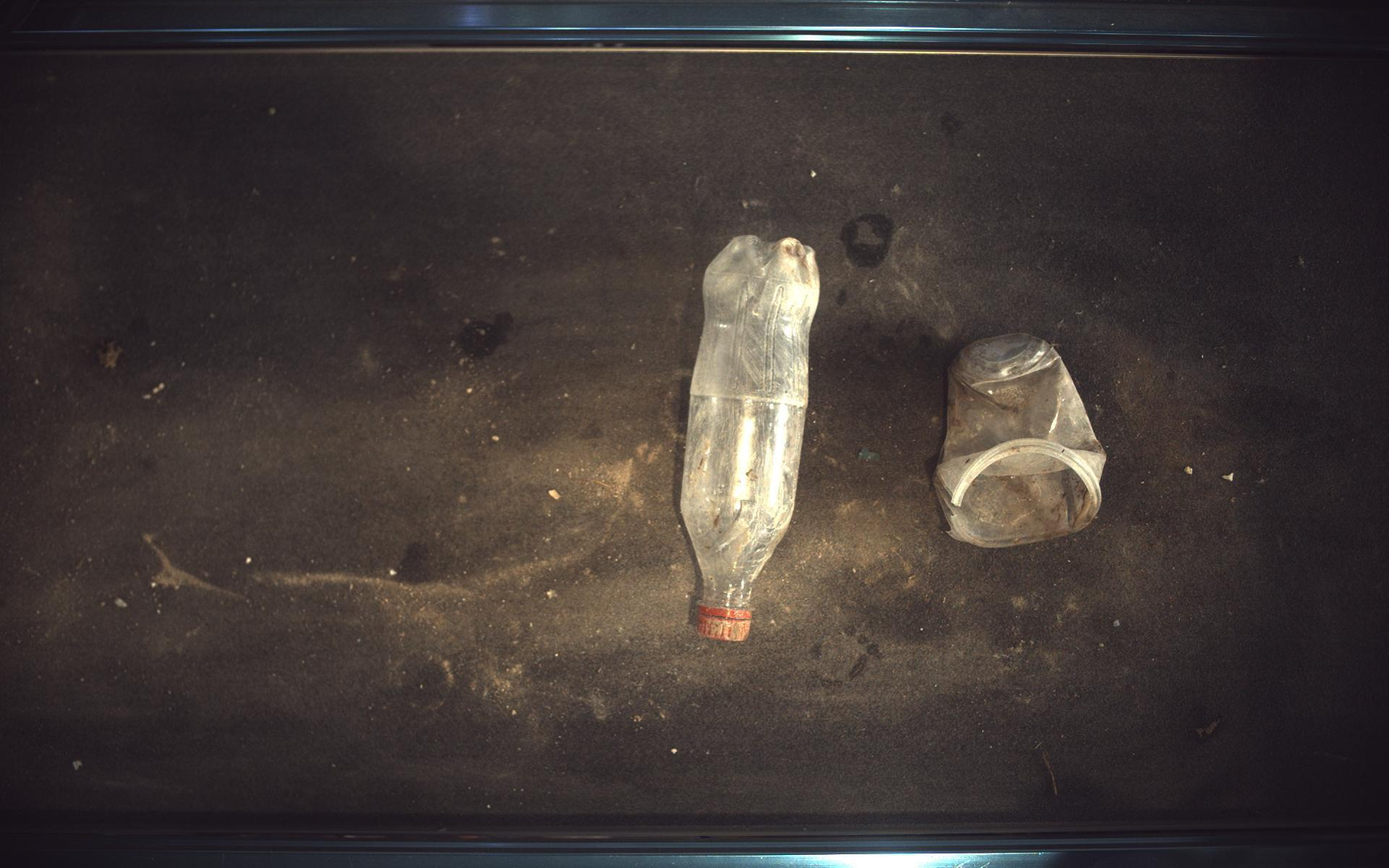general_w: (681, 234, 821, 642), (936, 333, 1108, 548)
